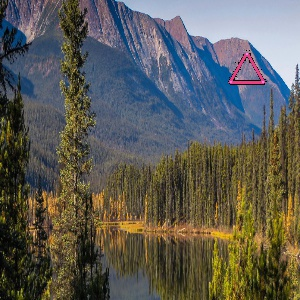triangle: (226, 51, 269, 87)
